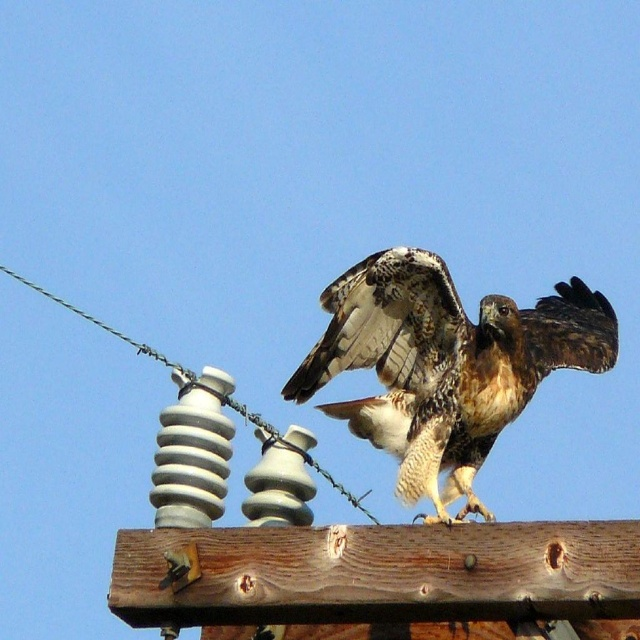Eagle: (280, 242, 623, 531)
